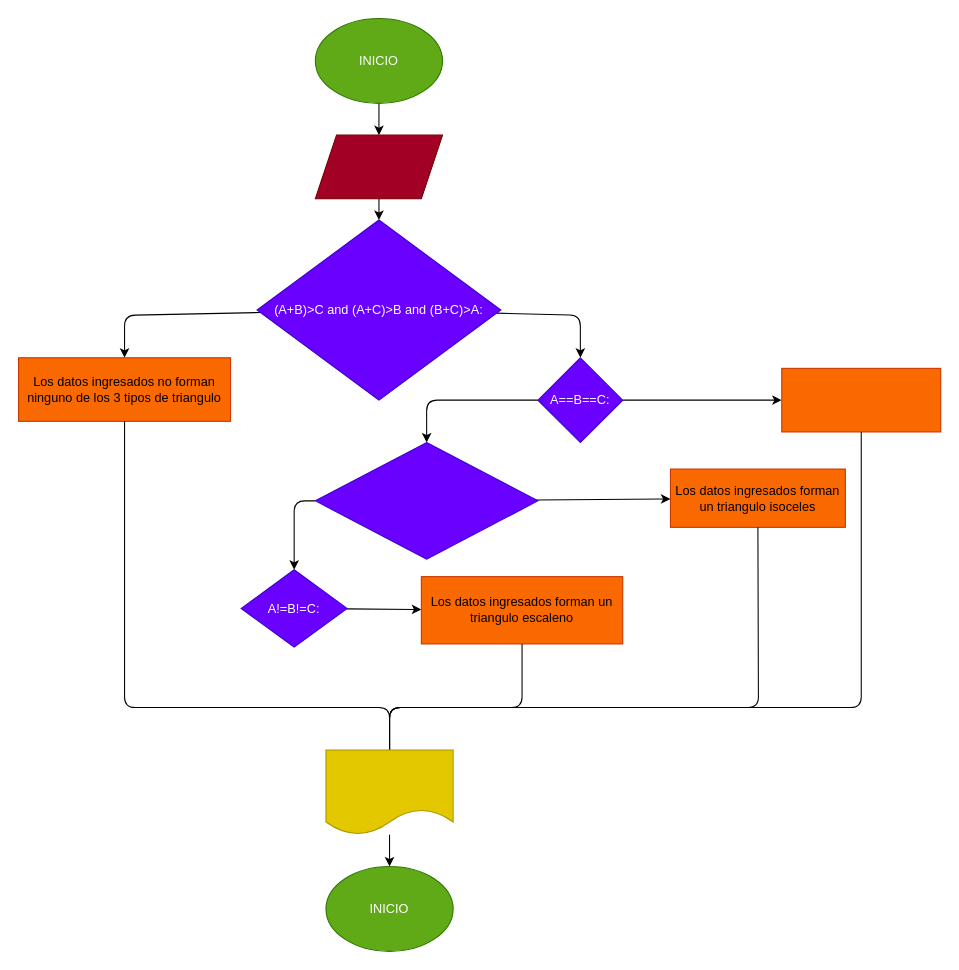
Some shapes in this 959 by 970 pixel diagram are drawn without their labels. Here are the shapes that lost their labels. From the top down, the box of each, then its label:
(314, 134, 443, 199): A, B Y C
(781, 367, 941, 432): Los datos ingresados forman un triangulo equilatero
(314, 441, 538, 559): A==B!=C or B==C!=A or C==A!=B:
(325, 749, 453, 835): SOLUCION
